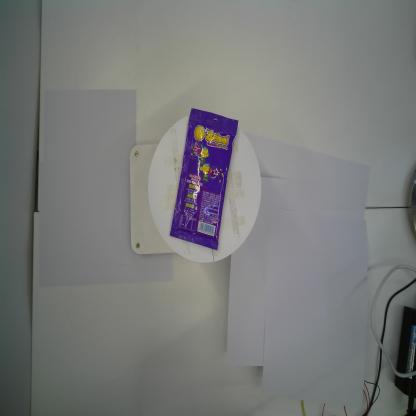Candy: (169, 107, 239, 252)
